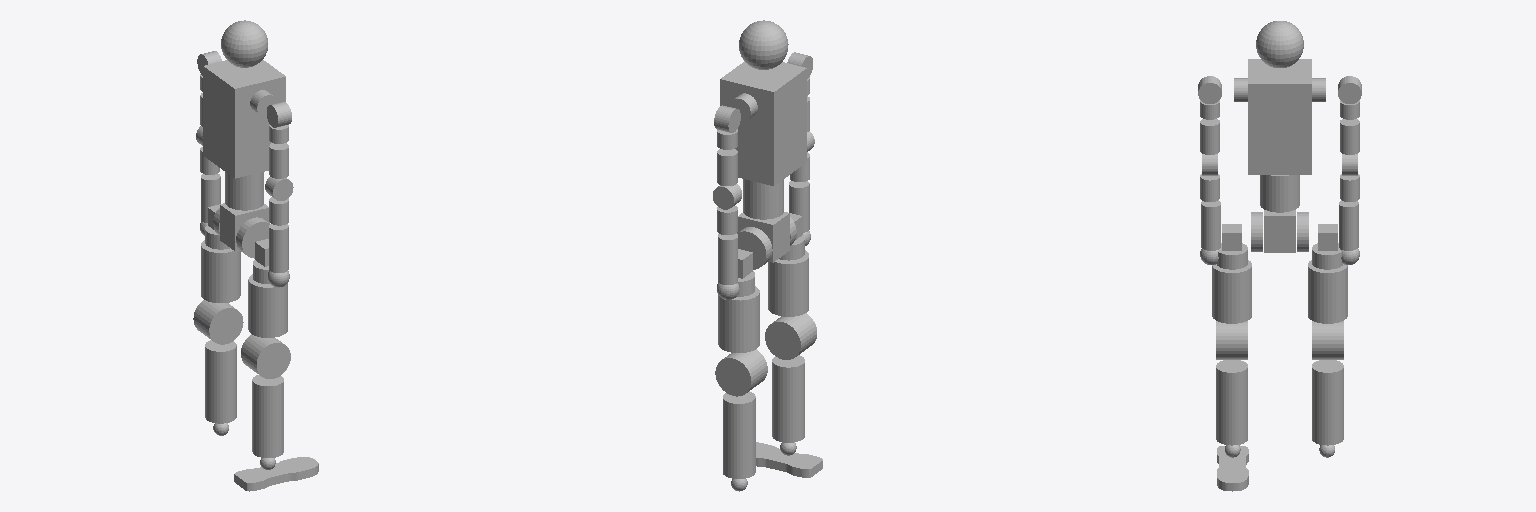
--- Facts derived from the render (not from the file) ---
Views: 3 orthographic renders of the robot side by side, from view 1: azimuth 30°, elevation 25°; view 2: azimuth 150°, elevation 25°; view 3: azimuth 270°, elevation 25°.
Robot: T4 — 24 links, 23 joints (23 revolute); root link Trunk; default pose: all joints at 0.
Links seen in each view (by area): view 1: Trunk, Hip_Yaw_Left, Hip_Yaw_Right, Shank_Right, Shank_Left, right_foot_link, AR5, AR3, Waist, AR1, Hip_Pitch_Right, AL5 (+1 smaller); view 2: Trunk, Hip_Yaw_Left, Hip_Yaw_Right, Shank_Right, Shank_Left, right_foot_link, AL3, AL5, Waist, AL1, Hip_Pitch_Left, AR5 (+3 smaller); view 3: Trunk, Hip_Yaw_Left, Hip_Yaw_Right, Shank_Left, Shank_Right, Waist, right_foot_link, AL5, AR5, Hip_Roll_Left, Hip_Roll_Right, AL3 (+3 smaller).
Boxes of the visible links, left/top/right/bottom form: Trunk: left=203, top=20, right=285, bottom=210; Hip_Yaw_Left: left=193, top=240, right=243, bottom=344; Hip_Yaw_Right: left=241, top=274, right=290, bottom=378; Shank_Right: left=252, top=375, right=283, bottom=457; Shank_Left: left=205, top=340, right=236, bottom=423; right_foot_link: left=234, top=457, right=318, bottom=491; AR5: left=268, top=224, right=289, bottom=287; AR3: left=265, top=143, right=293, bottom=200; Waist: left=220, top=203, right=269, bottom=251; AR1: left=250, top=90, right=291, bottom=127; Hip_Pitch_Right: left=236, top=217, right=269, bottom=258; AL5: left=200, top=174, right=220, bottom=235; Trunk: left=720, top=20, right=806, bottom=219; Hip_Yaw_Left: left=715, top=286, right=767, bottom=396; Hip_Yaw_Right: left=765, top=250, right=816, bottom=359; Shank_Right: left=772, top=355, right=804, bottom=442; Shank_Left: left=723, top=391, right=755, bottom=478; right_foot_link: left=756, top=442, right=822, bottom=477; AL3: left=713, top=149, right=741, bottom=209; AL5: left=717, top=233, right=739, bottom=299; Waist: left=737, top=212, right=789, bottom=262; AL1: left=714, top=93, right=757, bottom=132; Hip_Pitch_Left: left=737, top=227, right=772, bottom=269; AR5: left=789, top=181, right=810, bottom=245; Trunk: left=1248, top=21, right=1311, bottom=212; Hip_Yaw_Left: left=1308, top=260, right=1347, bottom=359; Hip_Yaw_Right: left=1212, top=260, right=1251, bottom=359; Shank_Left: left=1312, top=360, right=1343, bottom=445; Shank_Right: left=1216, top=360, right=1247, bottom=445; Waist: left=1264, top=210, right=1295, bottom=252; right_foot_link: left=1217, top=446, right=1248, bottom=491; AL5: left=1339, top=200, right=1359, bottom=264; AR5: left=1200, top=200, right=1220, bottom=264; Hip_Roll_Left: left=1312, top=224, right=1342, bottom=269; Hip_Roll_Right: left=1217, top=224, right=1247, bottom=269; AL3: left=1340, top=119, right=1359, bottom=175.
Bounding box of the posed robot: 0.22 × 0.409 × 1.23 m (x, y, z).
1 mesh visuals loaded from 2 distinct referenced files (1 binary STL); not drawn: 1 (reference not matched to a file when rendering).

robot.urdf — T4:
<?xml version="1.0" encoding="utf-8"?>
<!-- This URDF was automatically created by SolidWorks to URDF Exporter! Originally created by Stephen Brawner ([email redacted]) 
     Commit Version: 1.6.0-4-g7f85cfe  Build Version: 1.6.7995.38578
     For more information, please see http://wiki.ros.org/sw_urdf_exporter -->
<robot
  name="T4">
  <mujoco>
    <compiler meshdir="../meshes/" balanceinertia="true" discardvisual="false" />
  </mujoco>
    <!-- <link name="ground"/>
  <joint
    name="base_revolute"
    type="revolute">
    <origin
      xyz="0 0 0"
      rpy="0 0 0" />
    <parent
      link="ground" />
    <child
      link="Trunk" />
    <axis
      xyz="0 0 1" />
    <limit
      lower="-0.01"
      upper="0.01"
      effort="18"
      velocity="18.84" />
  </joint> -->
  <link
    name="Trunk">
    <inertial>
      <origin
        xyz="-0.0029485 0.0027285 0.243858"
        rpy="0 0 0" />
      <mass
        value="11.6560" />
      <inertia
        ixx="0.220661"
        ixy="-0.000881"
        ixz="0.004576"
        iyy="0.208342"
        iyz="-0.000990"
        izz="0.061275" />
    </inertial>
    <visual>
      <origin
        xyz="0 0 0.25"
        rpy="0 0 0" />
      <geometry>
        <box size="0.15 0.16 0.25" />
      </geometry>
      <material
        name="">
        <color
          rgba="0.76 0.76 0.76 0.8" />
      </material>
    </visual>
    <visual>
      <origin
        xyz="0 0 0.06"
        rpy="0 0 0" />
      <geometry>
        <cylinder radius="0.05" length="0.1" />
      </geometry>
      <material
        name="">
        <color
          rgba="0.76 0.76 0.76 0.8" />
      </material>
    </visual>
    <visual>
      <origin
        xyz="0 0 0.45"
        rpy="0 0 0" />
      <geometry>
        <sphere radius="0.06" />
      </geometry>
      <material
        name="">
        <color
          rgba="0.76 0.76 0.76 0.8" />
      </material>
    </visual>
    <!-- <collision>
      <origin
        xyz="0 0 0.25"
        rpy="0 0 0" />
      <geometry>
        <box size="0.15 0.16 0.25" />
      </geometry>
    </collision> -->
    <collision>
      <origin
        xyz="0 0 0.06"
        rpy="0 0 0" />
      <geometry>
        <cylinder radius="0.05" length="0.1" />
      </geometry>
    </collision>
    <!-- <collision>
      <origin
        xyz="0 0 0.45"
        rpy="0 0 0" />
      <geometry>
        <sphere radius="0.06" />
      </geometry>
    </collision> -->
  </link>
  <link
    name="AL1">
    <inertial>
      <origin
        xyz="0.0021514 0.0684657 0.0009330"
        rpy="0 0 0" />
      <mass
        value="0.5751" />
      <inertia
        ixx="0.000631"
        ixy="-0.000003"
        ixz="-0.000006"
        iyy="0.000340"
        iyz="0.000011"
        izz="0.000640" />
    </inertial>
    <visual>
      <origin
        xyz="0 0 0"
        rpy="1.57 0 0" />
      <geometry>
        <cylinder radius="0.03" length="0.04" />
      </geometry>
      <material
        name="">
        <color
          rgba="0.76 0.76 0.76 0.8" />
      </material>
    </visual>
    <visual>
      <origin
        xyz="0 0.08 0.0"
        rpy="0 1.57 0" />
      <geometry>
        <cylinder radius="0.03" length="0.04" />
      </geometry>
      <material
        name="">
        <color
          rgba="0.76 0.76 0.76 0.8" />
      </material>
    </visual>
    <!-- <collision>
      <origin
        xyz="0 0 0"
        rpy="1.57 0 0" />
      <geometry>
        <cylinder radius="0.03" length="0.04" />
      </geometry>
    </collision>
    <collision>
      <origin
        xyz="0 0.08 0.0"
        rpy="0 1.57 0" />
      <geometry>
        <cylinder radius="0.03" length="0.04" />
      </geometry>
    </collision> -->
  </link>
  <joint
    name="J_arm_l_01"
    type="revolute">
    <origin
      xyz="0.0 0.0945 0.324"
      rpy="0 0 0" />
    <parent
      link="Trunk" />
    <child
      link="AL1" />
    <axis
      xyz="0 1 0" />
    <limit
      lower="-3.40"
      upper="1.186"
      effort="25"
      velocity="18.84" />
  </joint>
  <link
    name="AL2">
    <inertial>
      <origin
        xyz="0.001752 0.0001277 -0.0377904"
        rpy="0 0 0" />
      <mass
        value="0.2020" />
      <inertia
        ixx="0.000309"
        ixy="0.0"
        ixz="0.000022"
        iyy="0.000397"
        iyz="-0.0"
        izz="0.000239" />
    </inertial>
    <visual>
      <origin
        xyz="-0 -0.0 -0.05"
        rpy="0 0 0" />
      <geometry>
        <cylinder radius="0.025" length="0.04" />
      </geometry>
      <material
        name="">
        <color
          rgba="0.76 0.76 0.76 0.8" />
      </material>
    </visual>
    <!-- <collision>
      <origin
        xyz="-0 -0.0 -0.05"
        rpy="0 0 0" />
      <geometry>
        <cylinder radius="0.025" length="0.04" />
      </geometry>
    </collision> -->
  </link>
  <joint
    name="J_arm_l_02"
    type="revolute">
    <origin
      xyz="0 0.08 0"
      rpy="0 0 0" />
    <parent
      link="AL1" />
    <child
      link="AL2" />
    <axis
      xyz="1 0 0" />
    <limit
      lower="-0.174"
      upper="3.228"
      effort="25"
      velocity="18.84" />
  </joint>
  <link
    name="AL3">
    <inertial>
      <origin  
        xyz="-0.0009466	-0.0026737 -0.0728228"
        rpy="0 0 0" />
      <mass
        value="1.0108" />
      <inertia
        ixx="0.002350"
        ixy="0.000111"
        ixz="0.000012"
        iyy="0.002316"
        iyz="0.000004"
        izz="0.000584" />
    </inertial>
    <visual>
      <origin
        xyz="0 0 -0.04"
        rpy="0 0 0" />
      <geometry>
        <cylinder radius="0.025" length="0.08" />
      </geometry>
      <material
        name="">
        <color
          rgba="0.76 0.76 0.76 0.8" />
      </material>
    </visual>
    <visual>
      <origin
        xyz="0 -0.0 -0.115"
        rpy="1.57 0 0" />
      <geometry>
        <cylinder radius="0.03" length="0.04" />
      </geometry>
      <material
        name="">
        <color
          rgba="0.76 0.76 0.76 0.8" />
      </material>
    </visual>
    <!-- <collision>
      <origin
        xyz="0 0 -0.04"
        rpy="0 0 0" />
      <geometry>
        <cylinder radius="0.025" length="0.08" />
      </geometry>
    </collision>
    <collision>
      <origin
        xyz="0 -0.0 -0.115"
        rpy="1.57 0 0" />
      <geometry>
        <cylinder radius="0.03" length="0.04" />
      </geometry>
    </collision> -->
  </link>
  <joint
    name="J_arm_l_03"
    type="revolute">
    <origin
      xyz="-0 0 -0.087"
      rpy="0 0 0" />
    <parent
      link="AL2" />
    <child
      link="AL3" />
    <axis
      xyz="0 0 1" />
    <limit
      lower="-2.617"
      upper="2.617"
      effort="25"
      velocity="18.84" />
  </joint>
  <link
    name="AL4">
    <inertial>
      <origin
        xyz="-0.0005424	0.0004743 -0.0714696"
        rpy="0 0 0" />
      <mass
        value="0.5074" />
      <inertia
        ixx="0.000550"
        ixy="0.000110"
        ixz="-0.000005"
        iyy="0.000514"
        iyz="0.0"
        izz="0.000268" />
    </inertial>
    <visual>
      <origin
        xyz="0 -0 -0.065"
        rpy="0 0 0" />
      <geometry>
        <cylinder radius="0.025" length="0.06" />
      </geometry>
      <material
        name="">
        <color
          rgba="0.76 0.76 0.76 0.8" />
      </material>
    </visual>
    <!-- <collision>
      <origin
        xyz="0 -0 -0.065"
        rpy="0 0 0" />
      <geometry>
        <cylinder radius="0.025" length="0.06" />
      </geometry>
    </collision> -->
  </link>
  <joint
    name="J_arm_l_04"
    type="revolute">
    <origin
      xyz="0 0 -0.115"
      rpy="0 0 0" />
    <parent
      link="AL3" />
    <child
      link="AL4" />
    <axis
      xyz="0 1 0" />
    <limit
      lower="-2.00"
      upper="0.034"
      effort="25"
      velocity="18.84" />
  </joint>
  <link
    name="AL5">
    <inertial>
      <origin
        xyz="-0.0003870 -0.0000285 -0.0734175"
        rpy="0 0 0" />
      <mass
        value="0.2754" />
      <inertia
        ixx="0.0009173285"
        ixy="0"
        ixz="0"
        iyy="0.0009166859"
        iyz="0"
        izz="0.0001331181" />
    </inertial>
    <visual>
      <origin
        xyz="0 0 -0.06"
        rpy="0 0 0" />
      <geometry>
        <cylinder radius="0.025" length="0.12" />
      </geometry>
      <material
        name="">
        <color
          rgba="0.76 0.76 0.76 0.8" />
      </material>
    </visual>
    <visual>
      <origin
        xyz="0 0 -0.1405"
        rpy="0 0 0" />
      <geometry>
        <sphere radius="0.028" />
      </geometry>
      <material
        name="">
        <color
          rgba="0.76 0.76 0.76 0.8" />
      </material>
    </visual>
    <!-- <collision>
      <origin
        xyz="0 0 -0.06"
        rpy="0 0 0" />
      <geometry>
        <cylinder radius="0.025" length="0.12" />
      </geometry>
    </collision>
    <collision>
      <origin
        xyz="0 0 -0.1405"
        rpy="0 0 0" />
      <geometry>
        <sphere radius="0.028" />
      </geometry>
    </collision> -->
  </link>
  <joint
    name="J_arm_l_05"
    type="revolute">
    <origin
      xyz="0 -0.003 -0.109"
      rpy="0 0 0" />
    <parent
      link="AL4" />
    <child
      link="AL5" />
    <axis
      xyz="0 0 1" />
    <limit
      lower="-2.617"
      upper="2.617"
      effort="25"
      velocity="18.84" />
  </joint>
  <link
    name="AR1">
    <inertial>
      <origin
        xyz="0.0021514 -0.0684657 0.0009330"
        rpy="0 0 0" />
      <mass
        value="0.5751" />
      <inertia
        ixx="0.000631"
        ixy="0.000003"
        ixz="-0.000006"
        iyy="0.000340"
        iyz="-0.000011"
        izz="0.000640" />
    </inertial>
    <visual>
      <origin
        xyz="0 0 0"
        rpy="1.57 0 0" />
      <geometry>
        <cylinder radius="0.03" length="0.04" />
      </geometry>
      <material
        name="">
        <color
          rgba="0.76 0.76 0.76 0.8" />
      </material>
    </visual>
    <visual>
      <origin
        xyz="0.0 -0.08 0.0"
        rpy="0 1.57 0" />
      <geometry>
        <cylinder radius="0.03" length="0.04" />
      </geometry>
      <material
        name="">
        <color
          rgba="0.76 0.76 0.76 0.8" />
      </material>
    </visual>
    <!-- <collision>
      <origin
        xyz="0 0 0"
        rpy="1.57 0 0" />
      <geometry>
        <cylinder radius="0.03" length="0.04" />
      </geometry>
    </collision>
    <collision>
      <origin
        xyz="0.0 -0.08 0.0"
        rpy="0 1.57 0" />
      <geometry>
        <cylinder radius="0.03" length="0.04" />
      </geometry>
    </collision> -->
  </link>
  <joint
    name="J_arm_r_01"
    type="revolute">
    <origin
      xyz="0.0 -0.0945 0.324"
      rpy="0 0 0" />
    <parent
      link="Trunk" />
    <child
      link="AR1" />
    <axis
      xyz="0 1 0" />
    <limit
      lower="-3.40"
      upper="1.186"
      effort="25"
      velocity="18.84" />
  </joint>
  <link
    name="AR2">
    <inertial>
      <origin
        xyz="0.001752 -0.0001277 -0.0377904"
        rpy="0 0 0" />
      <mass
        value="0.2020" />
      <inertia
        ixx="0.000309"
        ixy="-0.0"
        ixz="0.000022"
        iyy="0.000397"
        iyz="0.0"
        izz="0.000239" />
    </inertial>
    <visual>
      <origin
        xyz="-0 0.0 -0.05"
        rpy="0 0 0" />
      <geometry>
        <cylinder radius="0.025" length="0.04" />
      </geometry>
      <material
        name="">
        <color
          rgba="0.76 0.76 0.76 0.8" />
      </material>
    </visual>
    <!-- <collision>
      <origin
        xyz="-0 0.0 -0.05"
        rpy="0 0 0" />
      <geometry>
        <cylinder radius="0.025" length="0.04" />
      </geometry>
    </collision> -->
  </link>
  <joint
    name="J_arm_r_02"
    type="revolute">
    <origin
      xyz="0 -0.08 0"
      rpy="0 0 0" />
    <parent
      link="AR1" />
    <child
      link="AR2" />
    <axis
      xyz="1 0 0" />
    <limit
      lower="-3.228"
      upper="0.174"
      effort="25"
      velocity="18.84" />
  </joint>
  <link
    name="AR3">
    <inertial>
      <origin  
        xyz="-0.0009466	0.0026737 -0.0728228"
        rpy="0 0 0" />
      <mass
        value="1.0108" />
      <inertia
        ixx="0.002350"
        ixy="-0.000111"
        ixz="0.000012"
        iyy="0.002316"
        iyz="-0.000004"
        izz="0.000584" />
    </inertial>
    <visual>
      <origin
        xyz="0 0 -0.04"
        rpy="0 0 0" />
      <geometry>
        <cylinder radius="0.025" length="0.08" />
      </geometry>
      <material
        name="">
        <color
          rgba="0.76 0.76 0.76 0.8" />
      </material>
    </visual>
    <visual>
      <origin
        xyz="0 0.0 -0.115"
        rpy="1.57 0 0" />
      <geometry>
        <cylinder radius="0.03" length="0.04" />
      </geometry>
      <material
        name="">
        <color
          rgba="0.76 0.76 0.76 0.8" />
      </material>
    </visual>
    <!-- <collision>
      <origin
        xyz="0 0 -0.04"
        rpy="0 0 0" />
      <geometry>
        <cylinder radius="0.025" length="0.08" />
      </geometry>
    </collision>
    <collision>
      <origin
        xyz="0 0.0 -0.115"
        rpy="1.57 0 0" />
      <geometry>
        <cylinder radius="0.03" length="0.04" />
      </geometry>
    </collision> -->
  </link>
  <joint
    name="J_arm_r_03"
    type="revolute">
    <origin
      xyz="-0 0 -0.087"
      rpy="0 0 0" />
    <parent
      link="AR2" />
    <child
      link="AR3" />
    <axis
      xyz="0 0 1" />
    <limit
      lower="-2.617"
      upper="2.617"
      effort="25"
      velocity="18.84" />
  </joint>
  <link
    name="AR4">
    <inertial>
      <origin
        xyz="-0.0005424	-0.0004743 -0.0714696"
        rpy="0 0 0" />
      <mass
        value="0.5074" />
      <inertia
        ixx="0.000550"
        ixy="-0.000110"
        ixz="-0.000005"
        iyy="0.000514"
        iyz="-0.0"
        izz="0.000268" />
    </inertial>
    <visual>
      <origin
        xyz="0 0 -0.065"
        rpy="0 0 0" />
      <geometry>
        <cylinder radius="0.025" length="0.06" />
      </geometry>
      <material
        name="">
        <color
          rgba="0.76 0.76 0.76 0.8" />
      </material>
    </visual>
    <!-- <collision>
      <origin
        xyz="0 0 -0.065"
        rpy="0 0 0" />
      <geometry>
        <cylinder radius="0.025" length="0.06" />
      </geometry>
    </collision> -->
  </link>
  <joint
    name="J_arm_r_04"
    type="revolute">
    <origin
      xyz="0 -0 -0.115"
      rpy="0 0 0" />
    <parent
      link="AR3" />
    <child
      link="AR4" />
    <axis
      xyz="0 1 0" />
    <limit
      lower="-2.00"
      upper="0.034"
      effort="25"
      velocity="18.84" />
  </joint>
  <link
    name="AR5">
    <inertial>
      <origin
        xyz="-0.0003870 0.0000285 -0.0734175"
        rpy="0 0 0" />
      <mass
        value="0.2754" />
      <inertia
        ixx="0.0009173285"
        ixy="0"
        ixz="0"
        iyy="0.0009166859"
        iyz="0"
        izz="0.0001331181" />
    </inertial>
    <visual>
      <origin
        xyz="0 0 -0.06"
        rpy="0 0 0" />
      <geometry>
        <cylinder radius="0.025" length="0.12" />
      </geometry>
      <material
        name="">
        <color
          rgba="0.76 0.76 0.76 0.8" />
      </material>
    </visual>
    <visual>
      <origin
        xyz="0 0 -0.1405"
        rpy="0 0 0" />
      <geometry>
        <sphere radius="0.028" />
      </geometry>
      <material
        name="">
        <color
          rgba="0.76 0.76 0.76 0.8" />
      </material>
    </visual>
    <!-- <collision>
      <origin
        xyz="0 0 -0.06"
        rpy="0 0 0" />
      <geometry>
        <cylinder radius="0.025" length="0.12" />
      </geometry>
    </collision>
    <collision>
      <origin
        xyz="0 0 -0.1405"
        rpy="0 0 0" />
      <geometry>
        <sphere radius="0.028" />
      </geometry>
    </collision> -->
  </link>
  <joint
    name="J_arm_r_05"
    type="revolute">
    <origin
      xyz="0 0.003 -0.109"
      rpy="0 0 0" />
    <parent
      link="AR4" />
    <child
      link="AR5" />
    <axis
      xyz="0 0 1" />
    <limit
      lower="-2.617"
      upper="2.617"
      effort="25"
      velocity="18.84" />
  </joint>
  <link
    name="Waist">
    <inertial>
      <origin
        xyz="0.0000061 0 -0.060228"
        rpy="0 0 0" />
      <mass
        value="3.0798" />
      <inertia
        ixx="0.007956"
        ixy="0.0"
        ixz="0.000001"
        iyy="0.006469"
        iyz="0.0"
        izz="0.007184" />
    </inertial>
    <visual>
      <origin
        xyz="0 0 -0.05"
        rpy="0 0 0" />
      <geometry>
        <box size="0.1 0.08 0.1" />
      </geometry>
      <material
        name="">
        <color
          rgba="0.76 0.76 0.76 0.8" />
      </material>
    </visual>
    <!-- <collision>
      <origin
        xyz="0 0 -0.05"
        rpy="0 0 0" />
      <geometry>
        <box size="0.1 0.08 0.1" />
      </geometry>
    </collision> -->
  </link>
  <joint
    name="J_waist_yaw"
    type="revolute">
    <origin
      xyz="0.0 0 -0.0"
      rpy="0 0 0" />
    <parent
      link="Trunk" />
    <child
      link="Waist" />
    <axis
      xyz="0 0 1" />
    <limit
      lower="-1.01"
      upper="1.01"
      effort="60"
      velocity="10.88" />
  </joint>
  <link
    name="Hip_Pitch_Left">
    <inertial>
      <origin
        xyz="-0.0006032 -0.0522418 -0.0123757"
        rpy="0 0 0" />
      <mass
        value="1.0332" />
      <inertia
        ixx="0.001435"
        ixy="0.000045"
        ixz="0.000023"
        iyy="0.000904"
        iyz="0.000005"
        izz="0.001263" />
    </inertial>
    <visual>
      <origin
        xyz="0 0 0"
        rpy="1.57 0 0" />
      <geometry>
        <cylinder radius="0.05" length="0.03" />
      </geometry>
      <material
        name="">
        <color
          rgba="0.76 0.76 0.76 0.8" />
      </material>
    </visual>
    <!-- <collision>
      <origin
        xyz="0 0 0"
        rpy="1.57 0 0" />
      <geometry>
        <cylinder radius="0.05" length="0.03" />
      </geometry>
    </collision> -->
  </link>
  <joint
    name="J_hip_l_pitch"
    type="revolute">
    <origin
      xyz="0 0.0585 -0.066"
      rpy="0 0 0" />
    <parent
      link="Waist" />
    <child
      link="Hip_Pitch_Left" />
    <axis
      xyz="0 1 0" />
    <limit
      lower="-2.00"
      upper="2.00"
      effort="130"
      velocity="12.5" />
  </joint>
  <link
    name="Hip_Roll_Left">
    <inertial>
      <origin
        xyz="-0.0032464 -0.0000846 -0.0482163"
        rpy="0 0 0" />
      <mass
        value="0.4228" />
      <inertia
        ixx="0.000492"
        ixy="0.0"
        ixz="-0.000046"
        iyy="0.000834"
        iyz="-0.0"
        izz="0.000656" />
    </inertial>
    <visual>
      <origin
        xyz="-0 -0.0 0"
        rpy="0 0 0" />
      <geometry>
        <box size="0.05 0.05 0.05" />
      </geometry>
      <material
        name="">
        <color
          rgba="0.76 0.76 0.76 0.8" />
      </material>
    </visual>
    <visual>
      <origin
        xyz="-0 0 -0.05"
        rpy="0 0 0" />
      <geometry>
        <cylinder radius="0.04" length="0.04" />
      </geometry>
      <material
        name="">
        <color
          rgba="0.76 0.76 0.76 0.8" />
      </material>
    </visual>
    <!-- <collision>
      <origin
        xyz="-0 -0.0 0"
        rpy="0 0 0" />
      <geometry>
        <box size="0.05 0.05 0.05" />
      </geometry>
    </collision>
    <collision>
      <origin
        xyz="-0 0 -0.05"
        rpy="0 0 0" />
      <geometry>
        <cylinder radius="0.04" length="0.04" />
      </geometry>
    </collision> -->
  </link>
  <joint
    name="J_hip_l_roll"
    type="revolute">
    <origin
      xyz="0 0.061 -0.0155"
      rpy="0 0 0" />
    <parent
      link="Hip_Pitch_Left" />
    <child
      link="Hip_Roll_Left" />
    <axis
      xyz="1 0 0" />
    <limit
      lower="-0.26"
      upper="1.53"
      effort="120"
      velocity="10.9" />
  </joint>
  <link
    name="Hip_Yaw_Left">
    <inertial>
      <origin
        xyz="-0.0027038 0.0003846 -0.1349933"
        rpy="0 0 0" />
      <mass
        value="2.5647" />
      <inertia
        ixx="0.018906"
        ixy="-0.000055"
        ixz="0.000424"
        iyy="0.019196"
        iyz="-0.000002"
        izz="0.003242" />
    </inertial>
    <visual>
      <origin
        xyz="0 0 -0.07"
        rpy="0 0 0" />
      <geometry>
        <cylinder radius="0.05" length="0.14" />
      </geometry>
      <material
        name="">
        <color
          rgba="0.76 0.76 0.76 0.8" />
      </material>
    </visual>
    <visual>
      <origin
        xyz="-0.007 0 -0.2095"
        rpy="1.5707 0 0" />
      <geometry>
        <cylinder radius="0.05" length="0.08" />
      </geometry>
      <material
        name="">
        <color
          rgba="0.76 0.76 0.76 0.8" />
      </material>
    </visual>
    <!-- <collision>
      <origin
        xyz="0 0 -0.07"
        rpy="0 0 0" />
      <geometry>
        <cylinder radius="0.05" length="0.14" />
      </geometry>
    </collision>
    <collision>
      <origin
        xyz="-0.007 0 -0.2095"
        rpy="1.5707 0 0" />
      <geometry>
        <cylinder radius="0.05" length="0.08" />
      </geometry>
    </collision> -->
  </link>
  <joint
    name="J_hip_l_yaw"
    type="revolute">
    <origin
      xyz="-0.0005 0 -0.075"
      rpy="0 0 0" />
    <parent
      link="Hip_Roll_Left" />
    <child
      link="Hip_Yaw_Left" />
    <axis
      xyz="0 0 1" />
    <limit
      lower="-1"
      upper="1"
      effort="60"
      velocity="10.9" />
  </joint>
  <link
    name="Shank_Left">
    <inertial>
      <origin
        xyz="0.0061751 0.0010982 -0.1230018"
        rpy="0 0 0" />
      <mass
        value="2.085" />
      <inertia
        ixx="0.013245"
        ixy="-0.000030"
        ixz="0.000610"
        iyy="0.013290"
        iyz="-0.000009"
        izz="0.002545" />
    </inertial>
    <visual>
      <origin
        xyz="0.007 -0 -0.17"
        rpy="0 0 0" />
      <geometry>
        <cylinder radius="0.04" length="0.2" />
      </geometry>
      <material
        name="">
        <color
          rgba="0.76 0.76 0.76 0.8" />
      </material>
    </visual>
    <!-- <collision>
      <origin
        xyz="0.007 -0 -0.17"
        rpy="0 0 0" />
      <geometry>
        <cylinder radius="0.04" length="0.2" />
      </geometry>
    </collision> -->
  </link>
  <joint
    name="J_knee_l_pitch"
    type="revolute">
    <origin
      xyz="-0.007 0 -0.2095"
      rpy="0 0 0" />
    <parent
      link="Hip_Yaw_Left" />
    <child
      link="Shank_Left" />
    <axis
      xyz="0 1 0" />
    <limit
      lower="0"
      upper="2.26"
      effort="130"
      velocity="11.7" />
  </joint>
  <link
    name="Ankle_Cross_Left">
    <inertial>
      <origin
        xyz="0 0 0"
        rpy="0 0 0" />
      <mass
        value="0.05" />
      <inertia
        ixx="0.00002"
        ixy="0.00000"
        ixz="0.00000"
        iyy="0.00002"
        iyz="0.00000"
        izz="0.00002" />
    </inertial>
    <visual>
      <origin
        xyz="0 0 0"
        rpy="0 0 0" />
      <geometry>
        <sphere radius="0.02" />
      </geometry>
      <material
        name="">
        <color
          rgba="0.76 0.76 0.76 0.8" />
      </material>
    </visual>
    <!-- <collision>
      <origin
        xyz="0 0 0"
        rpy="0 0 0" />
      <geometry>
        <sphere radius="0.02" />
      </geometry>
    </collision> -->
  </link>
  <joint
    name="J_ankle_l_pitch"
    type="revolute">
    <origin
      xyz="0.007 -0.0015 -0.3"
      rpy="0 0 0" />
    <parent
      link="Shank_Left" />
    <child
      link="Ankle_Cross_Left" />
    <axis
      xyz="0 1 0" />
    <limit
      lower="-0.87"
      upper="0.35"
      effort="72"
      velocity="18.8" />
  </joint>
  <link
    name="left_foot_link">
    <inertial>
      <origin
        xyz="0.0198743 0 -0.0279436"
        rpy="0 0 0" />
      <mass
        value="0.7981" />
      <inertia
        ixx="0.0004793566"
        ixy="0"
        ixz="-0.0001115482"
        iyy="0.0031119535"
        iyz="0"
        izz="0.0032936988" />
    </inertial>
    <visual>
      <origin
        xyz="0.0 0 -0.035"
        rpy="0 0 0" />
      <geometry>
        <mesh filename="../meshes/left_foot.STL" scale="0.001 0.001 0.001"/>
      </geometry>
      <material
        name="">
        <color
          rgba="0.76 0.76 0.76 0.8" />
      </material>
    </visual>
    <collision>
      <origin
        xyz="0.0 0 -0.035"
        rpy="0 0 0" />
      <geometry>
        <mesh filename="../meshes/left_foot.STL" scale="0.001 0.001 0.001"/>
      </geometry>
    </collision>
  </link>
  <joint
    name="J_ankle_l_roll"
    type="revolute">
    <origin
      xyz="0 0 0"
      rpy="0 0 0" />
    <parent
      link="Ankle_Cross_Left" />
    <child
      link="left_foot_link" />
    <axis
      xyz="1 0 0" />
    <limit
      lower="-0.44"
      upper="0.44"
      effort="36"
      velocity="12.4" />
  </joint>
  <link
    name="Hip_Pitch_Right">
    <inertial>
      <origin
        xyz="-0.0006032 0.0522418 -0.0123757"
        rpy="0 0 0" />
      <mass
        value="1.0332" />
      <inertia
        ixx="0.001435"
        ixy="-0.000045"
        ixz="0.000023"
        iyy="0.000904"
        iyz="-0.000005"
        izz="0.001263" />
    </inertial>
    <visual>
      <origin
        xyz="0 0 0"
        rpy="1.57 0 0" />
      <geometry>
        <cylinder radius="0.05" length="0.03" />
      </geometry>
      <material
        name="">
        <color
          rgba="0.76 0.76 0.76 0.8" />
      </material>
    </visual>
    <!-- <collision>
      <origin
        xyz="0 0 0"
        rpy="1.57 0 0" />
      <geometry>
        <cylinder radius="0.05" length="0.03" />
      </geometry>
    </collision> -->
  </link>
  <joint
    name="J_hip_r_pitch"
    type="revolute">
    <origin
      xyz="0 -0.0585 -0.066"
      rpy="0 0 0" />
    <parent
      link="Waist" />
    <child
      link="Hip_Pitch_Right" />
    <axis
      xyz="0 1 0" />
    <limit
      lower="-2.00"
      upper="2.00"
      effort="130"
      velocity="12.5" />
  </joint>
  <link
    name="Hip_Roll_Right">
    <inertial>
      <origin
        xyz="-0.0032464 0.0000846 -0.0482163"
        rpy="0 0 0" />
      <mass
        value="0.4228" />
      <inertia
        ixx="0.000492"
        ixy="-0.0"
        ixz="-0.000046"
        iyy="0.000834"
        iyz="0.0"
        izz="0.000656" />
    </inertial>
    <visual>
      <origin
        xyz="-0 0.0 0"
        rpy="0 0 0" />
      <geometry>
        <box size="0.05 0.05 0.05" />
      </geometry>
      <material
        name="">
        <color
          rgba="0.76 0.76 0.76 0.8" />
      </material>
    </visual>
    <visual>
      <origin
        xyz="-0 0 -0.05"
        rpy="0 0 0" />
      <geometry>
        <cylinder radius="0.04" length="0.04" />
      </geometry>
      <material
        name="">
        <color
          rgba="0.76 0.76 0.76 0.8" />
      </material>
    </visual>
    <!-- <collision>
      <origin
        xyz="-0 0.0 0"
        rpy="0 0 0" />
      <geometry>
        <box size="0.05 0.05 0.05" />
      </geometry>
    </collision>
    <collision>
      <origin
        xyz="-0 0 -0.05"
        rpy="0 0 0" />
      <geometry>
        <cylinder radius="0.04" length="0.04" />
      </geometry>
    </collision> -->
  </link>
  <joint
    name="J_hip_r_roll"
    type="revolute">
    <origin
      xyz="0 -0.061 -0.0155"
      rpy="0 0 0" />
    <parent
      link="Hip_Pitch_Right" />
    <child
      link="Hip_Roll_Right" />
    <axis
      xyz="1 0 0" />
    <limit
      lower="-1.53"
      upper="0.26"
      effort="120"
      velocity="10.9" />
  </joint>
  <link
    name="Hip_Yaw_Right">
    <inertial>
      <origin
        xyz="-0.0027038 -0.0003846 -0.1349933"
        rpy="0 0 0" />
      <mass
        value="2.5647" />
      <inertia
        ixx="0.018906"
        ixy="0.000055"
        ixz="0.000424"
        iyy="0.019196"
        iyz="0.000002"
        izz="0.003242" />
    </inertial>
    <visual>
      <origin
        xyz="0 0 -0.07"
        rpy="0 0 0" />
      <geometry>
        <cylinder radius="0.05" length="0.14" />
      </geometry>
      <material
        name="">
        <color
          rgba="0.76 0.76 0.76 0.8" />
      </material>
    </visual>
    <visual>
      <origin
        xyz="-0.007 0 -0.2095"
        rpy="1.5707 0 0" />
      <geometry>
        <cylinder radius="0.05" length="0.08" />
      </geometry>
      <material
        name="">
        <color
          rgba="0.76 0.76 0.76 0.8" />
      </material>
    </visual>
    <!-- <collision>
      <origin
        xyz="0 0 -0.07"
        rpy="0 0 0" />
      <geometry>
        <cylinder radius="0.05" length="0.14" />
      </geometry>
    </collision>
    <collision>
      <origin
        xyz="-0.007 0 -0.2095"
        rpy="1.5707 0 0" />
      <geometry>
        <cylinder radius="0.05" length="0.08" />
      </geometry>
    </collision> -->
  </link>
  <joint
    name="J_hip_r_yaw"
    type="revolute">
    <origin
      xyz="-0.0005 0 -0.075"
      rpy="0 0 0" />
    <parent
      link="Hip_Roll_Right" />
    <child
      link="Hip_Yaw_Right" />
    <axis
      xyz="0 0 1" />
    <limit
      lower="-1"
      upper="1"
      effort="60"
      velocity="10.9" />
  </joint>
  <link
    name="Shank_Right">
    <inertial>
      <origin
        xyz="0.0061751 -0.0010982 -0.1230018"
        rpy="0 0 0" />
      <mass
        value="2.085" />
      <inertia
        ixx="0.013245"
        ixy="0.000030"
        ixz="0.000610"
        iyy="0.013290"
        iyz="0.000009"
        izz="0.002545" />
    </inertial>
    <visual>
      <origin
        xyz="0.007 0 -0.17"
        rpy="0 0 0" />
      <geometry>
        <cylinder radius="0.04" length="0.2" />
      </geometry>
      <material
        name="">
        <color
          rgba="0.76 0.76 0.76 0.8" />
      </material>
    </visual>
    <!-- <collision>
      <origin
        xyz="0.007 0 -0.17"
        rpy="0 0 0" />
      <geometry>
        <cylinder radius="0.04" length="0.2" />
      </geometry>
    </collision> -->
  </link>
  <joint
    name="J_knee_r_pitch"
    type="revolute">
    <origin
      xyz="-0.007 -0 -0.2095"
      rpy="0 0 0" />
    <parent
      link="Hip_Yaw_Right" />
    <child
      link="Shank_Right" />
    <axis
      xyz="0 1 0" />
    <limit
      lower="0"
      upper="2.26"
      effort="130"
      velocity="11.7" />
  </joint>
  <link
    name="Ankle_Cross_Right">
    <inertial>
      <origin
        xyz="0 0 0"
        rpy="0 0 0" />
      <mass
        value="0.05" />
      <inertia
        ixx="0.00002"
        ixy="0.00000"
        ixz="0.00000"
        iyy="0.00002"
        iyz="0.00000"
        izz="0.00002" />
    </inertial>
    <visual>
      <origin
        xyz="0 0 0"
        rpy="0 0 0" />
      <geometry>
        <sphere radius="0.02" />
      </geometry>
      <material
        name="">
        <color
          rgba="0.76 0.76 0.76 0.8" />
      </material>
    </visual>
    <!-- <collision>
      <origin
        xyz="0 0 0"
        rpy="0 0 0" />
      <geometry>
        <sphere radius="0.02" />
      </geometry>
    </collision> -->
  </link>
  <joint
    name="J_ankle_r_pitch"
    type="revolute">
    <origin
      xyz="0.007 0.0015 -0.3"
      rpy="0 0 0" />
    <parent
      link="Shank_Right" />
    <child
      link="Ankle_Cross_Right" />
    <axis
      xyz="0 1 0" />
    <limit
      lower="-0.87"
      upper="0.35"
      effort="72"
      velocity="18.8" />
  </joint>
  <link
    name="right_foot_link">
    <inertial>
      <origin
        xyz="0.0198743 0 -0.0279436"
        rpy="0 0 0" />
      <mass
        value="0.7981" />
      <inertia
        ixx="0.0004793566"
        ixy="0"
        ixz="-0.0001115482"
        iyy="0.0031119535"
        iyz="0"
        izz="0.0032936988" />
    </inertial>
    <visual>
      <origin
        xyz="0.0 0 -0.035"
        rpy="0 0 0" />
      <geometry>
        <mesh filename="../meshes/right_foot.STL" scale="0.001 0.001 0.001"/>
      </geometry>
      <material
        name="">
        <color
          rgba="0.76 0.76 0.76 0.8" />
      </material>
    </visual>
    <collision>
      <origin
        xyz="0.0 0 -0.035"
        rpy="0 0 0" />
      <geometry>
        <mesh filename="../meshes/right_foot.STL" scale="0.001 0.001 0.001"/>
      </geometry>
    </collision>
  </link>
  <joint
    name="J_ankle_r_roll"
    type="revolute">
    <origin
      xyz="0 0 0"
      rpy="0 0 0" />
    <parent
      link="Ankle_Cross_Right" />
    <child
      link="right_foot_link" />
    <axis
      xyz="1 0 0" />
    <limit
      lower="-0.44"
      upper="0.44"
      effort="36"
      velocity="12.4" />
  </joint>
</robot>
